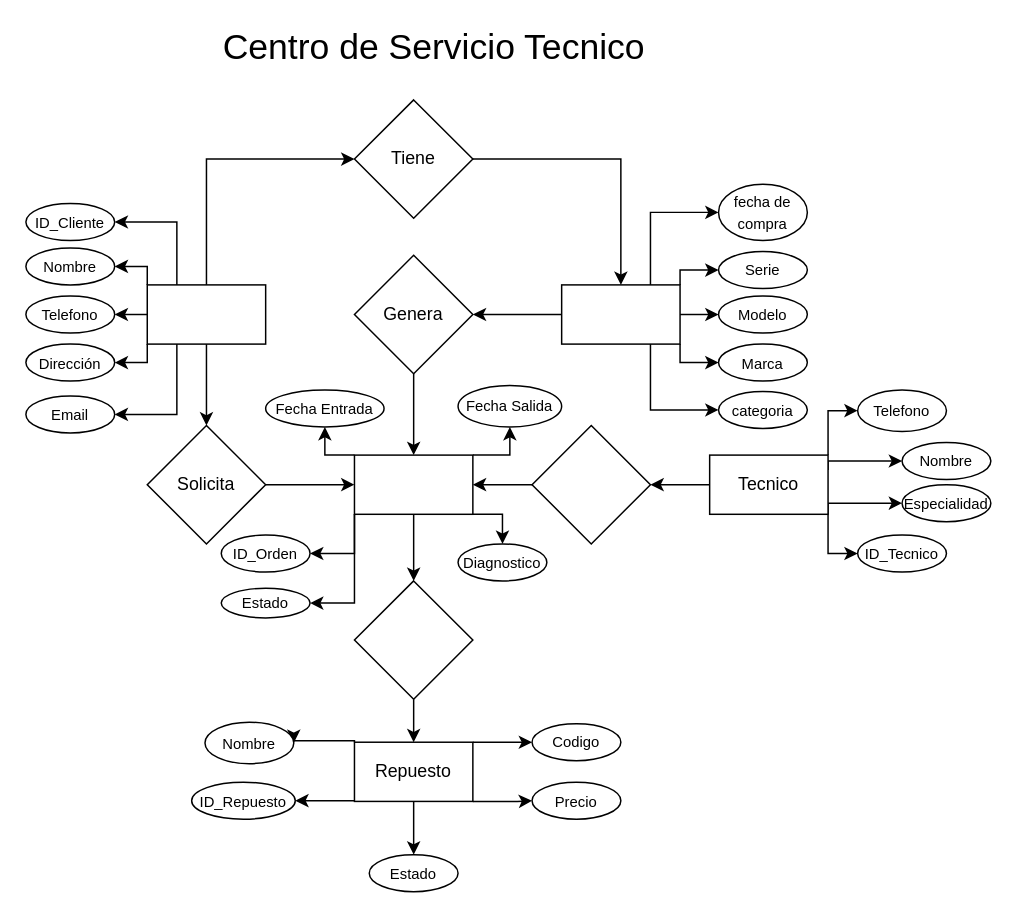
Some shapes in this 1017 by 918 pixel diagram are drawn without their labels. The centre of each missing label's shape, as x and y in pixels:
"Atiende" goes at point 590,484.
"Cliente" goes at point 206,313.
"Orden de Servicio" goes at point 413,484.
"Producto" goes at point 620,313.
"Utiliza" goes at point 413,639.
